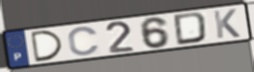2: (105, 19, 136, 54)
6: (139, 15, 173, 49)
C: (67, 25, 101, 57)
D: (172, 11, 209, 46), (29, 29, 66, 64)
K: (211, 8, 242, 40)
